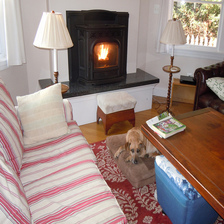laptop: (174, 73, 199, 90)
